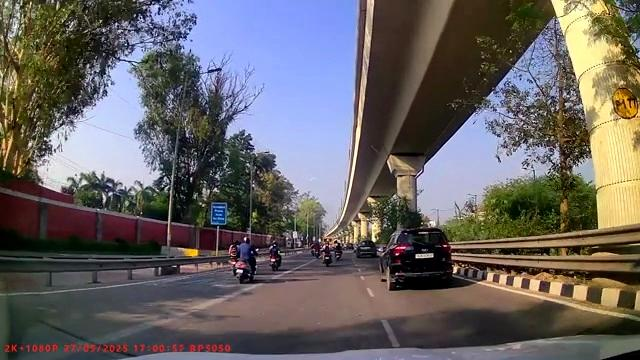motorcycle_with_helmet: (232, 235, 257, 284), (269, 240, 283, 270)
